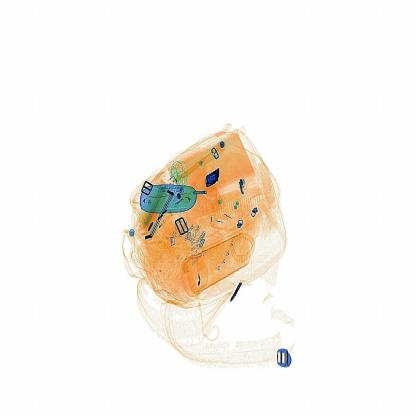knife: (203, 162, 226, 190)
